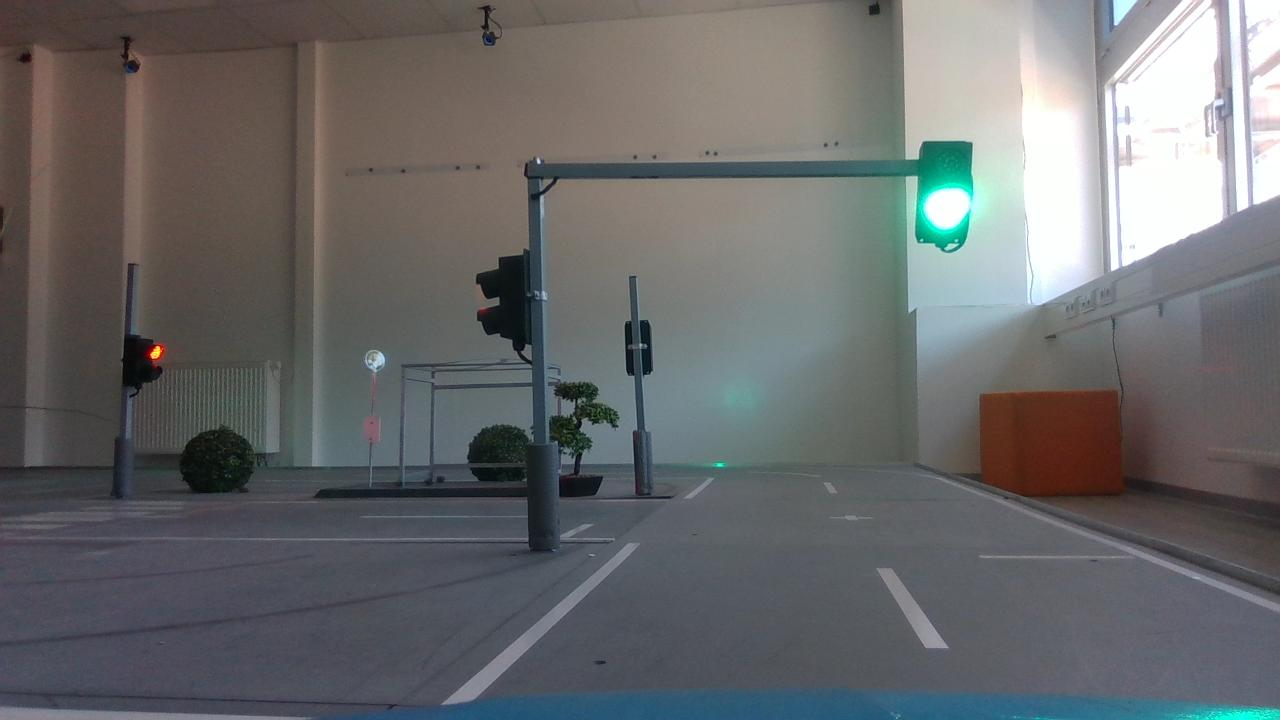traffic_light_green: (911, 125, 988, 273)
